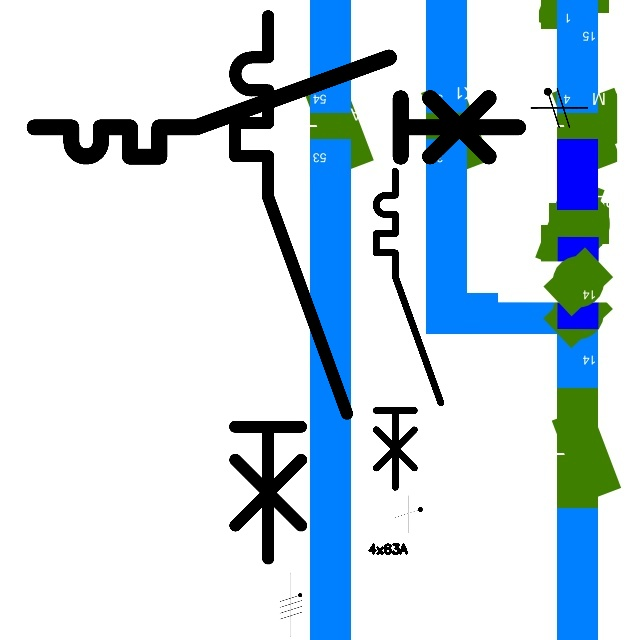interruptor_termomagnetico: (221, 2, 360, 572), (22, 45, 531, 169), (368, 163, 449, 495)
